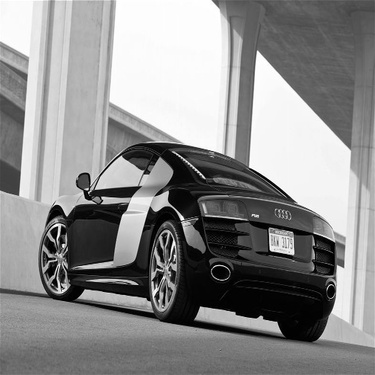car: (33, 129, 342, 344)
